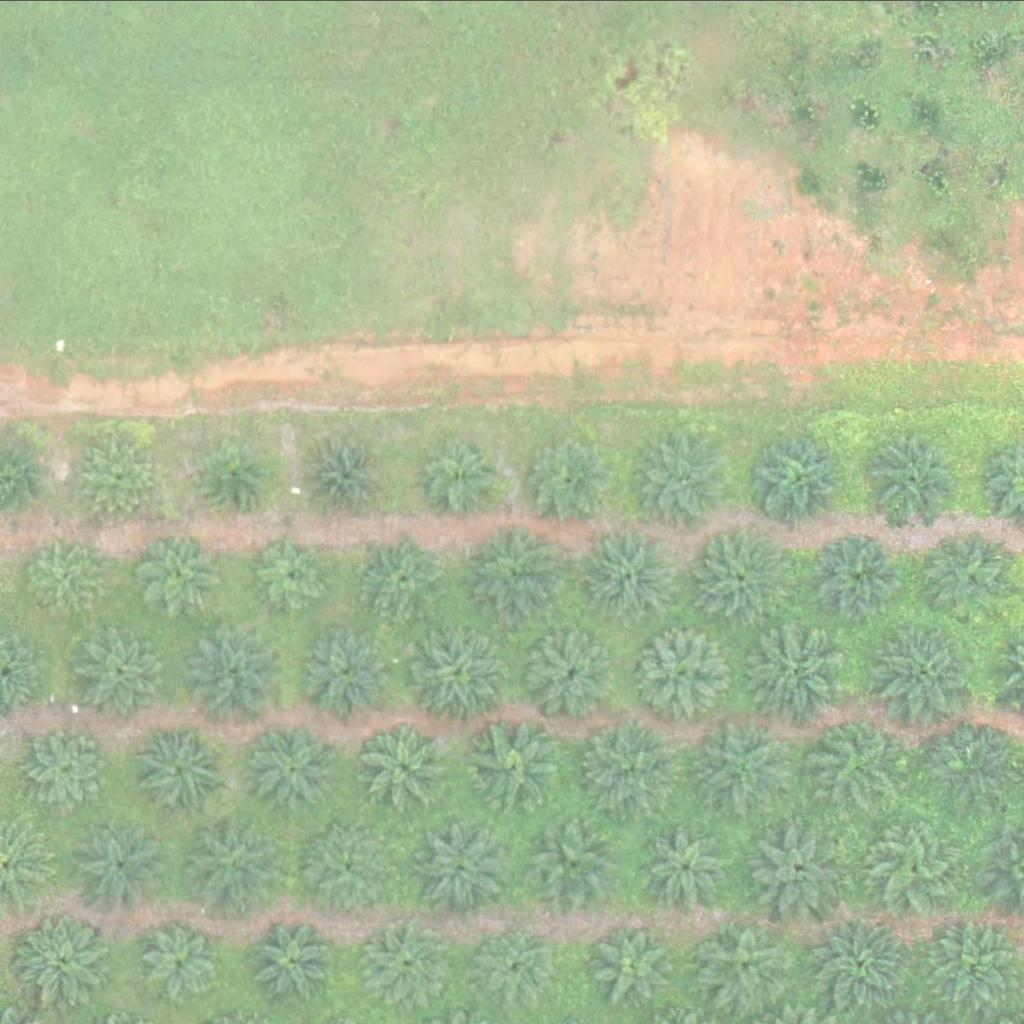Kelapa_Sawit: (187, 626, 288, 726), (18, 721, 119, 821), (128, 721, 229, 821), (68, 815, 169, 915), (922, 912, 1023, 1012), (521, 812, 622, 912), (574, 717, 675, 817), (695, 712, 796, 812), (634, 621, 735, 721), (745, 622, 846, 722), (878, 621, 979, 721), (579, 519, 680, 619), (690, 526, 791, 626), (749, 427, 850, 527), (468, 523, 568, 623), (407, 623, 507, 723), (464, 717, 564, 817), (184, 812, 284, 912), (411, 817, 511, 917), (12, 907, 112, 1007), (695, 916, 795, 1016), (743, 818, 843, 918), (804, 709, 904, 809), (530, 627, 619, 715), (423, 433, 511, 521), (360, 530, 448, 618), (79, 628, 167, 716), (304, 629, 392, 717), (141, 916, 229, 1004), (644, 822, 732, 910), (866, 823, 954, 911), (814, 533, 902, 621), (870, 431, 958, 519), (132, 533, 220, 620), (304, 430, 392, 517), (252, 725, 340, 812), (363, 722, 451, 809), (312, 822, 400, 909), (815, 917, 903, 1004), (926, 530, 1014, 617), (524, 434, 612, 521), (639, 434, 727, 521), (258, 920, 334, 995), (369, 922, 445, 997), (592, 925, 668, 1000), (258, 534, 333, 609), (79, 442, 154, 517), (27, 540, 102, 615), (484, 930, 559, 1005), (202, 449, 265, 512)
